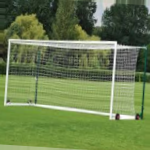goals: (3, 36, 138, 123)
